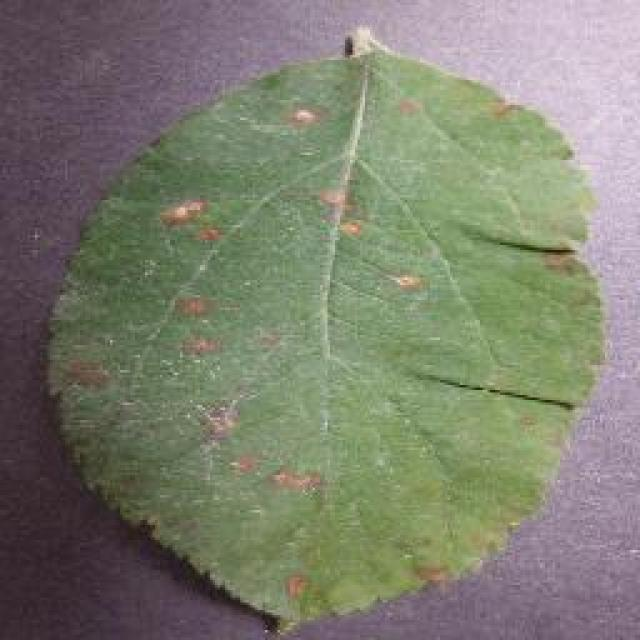apple rust disease: (40, 25, 608, 635)
